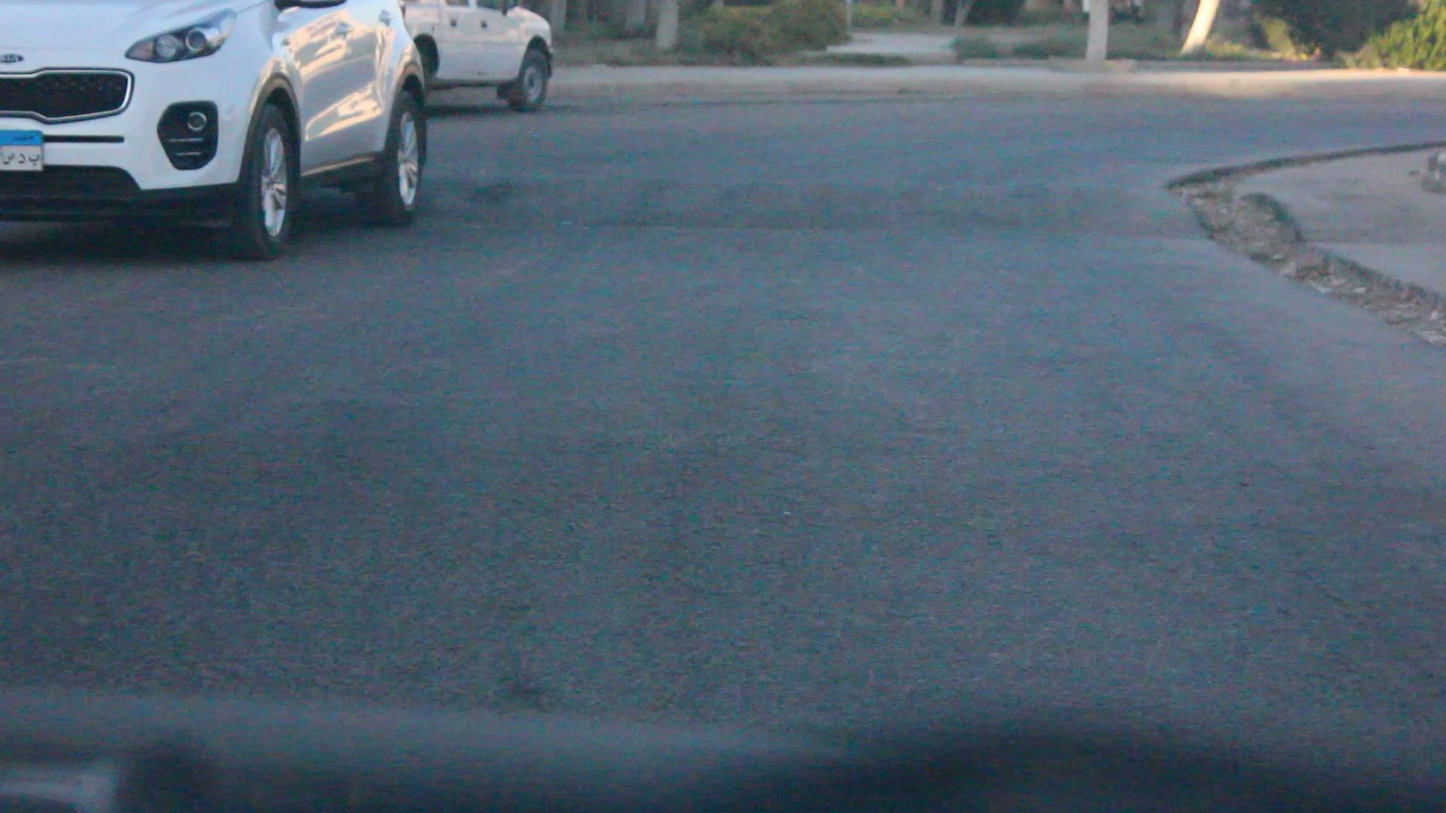Bump: (441, 149, 1205, 247)
